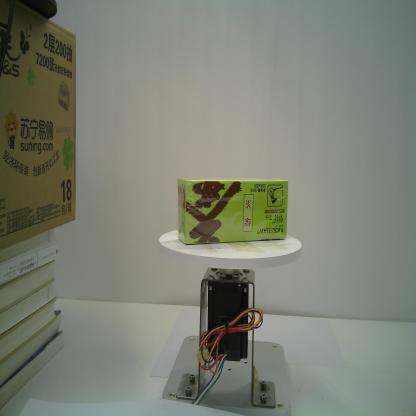Instant Drink: (177, 178, 288, 244)
